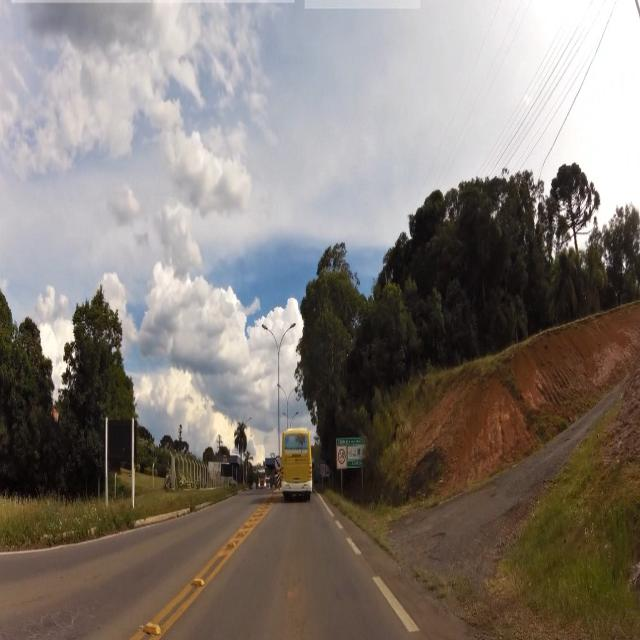R-19: (338, 446, 345, 466)
